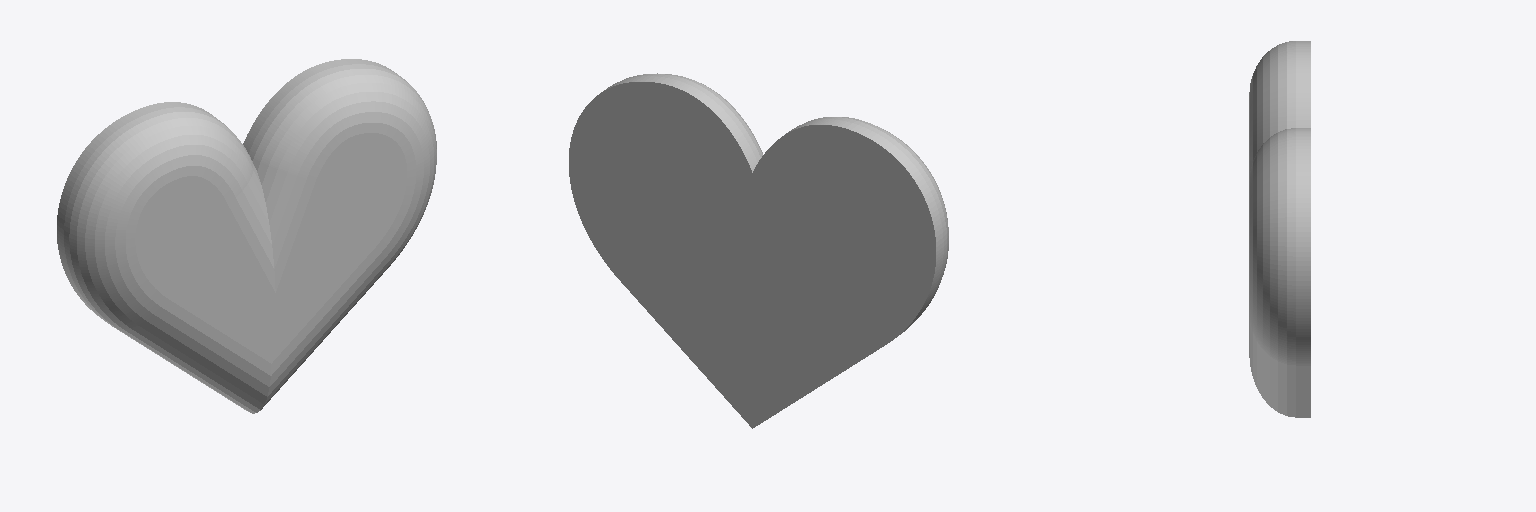
Rendered from Ativo 4.obj.
3 views of the same model, side by side, from view 1: azimuth 30°, elevation 25°; view 2: azimuth 150°, elevation 25°; view 3: azimuth 270°, elevation 25° (orthographic).
Visible parts, largest first — view 1: groupNumber_0; view 2: groupNumber_0; view 3: groupNumber_0.
Boxes of the visible parts, box(x1,y1,x2,y2) form: groupNumber_0: box(57, 59, 436, 413); groupNumber_0: box(569, 73, 948, 428); groupNumber_0: box(1249, 41, 1310, 417).
Size of the model in its own units: 10.32 by 8.67 by 1.5.